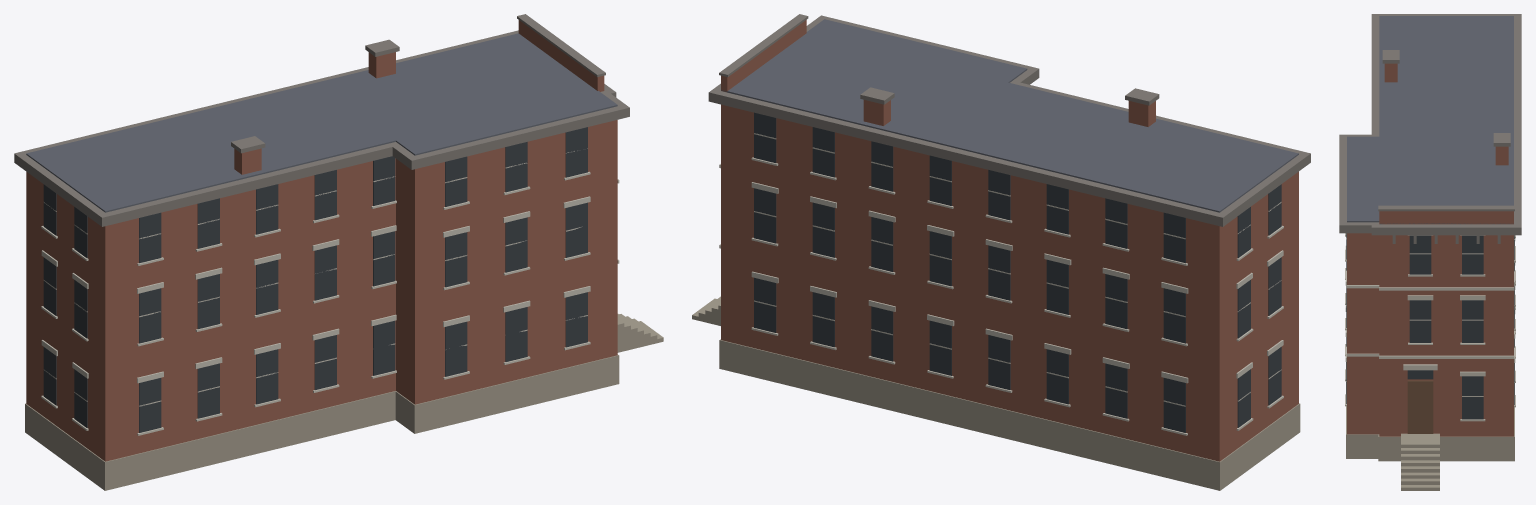
Rendered from house_1730_prairie__draft_1904.glb.
3 renders of one model, left to right at view 1: azimuth 30°, elevation 25°; view 2: azimuth 150°, elevation 25°; view 3: azimuth 270°, elevation 25°, orthographic. The views are drawn at different scales.
Parts seen in each view (by area): view 1: house_1730_prairie__draft_1904; view 2: house_1730_prairie__draft_1904; view 3: house_1730_prairie__draft_1904.
Part boxes in pixels (x1,y1,x2,y2): house_1730_prairie__draft_1904: (14, 14, 663, 490); house_1730_prairie__draft_1904: (692, 14, 1310, 490); house_1730_prairie__draft_1904: (1339, 14, 1521, 490).
Size of the model in its own units: 26.4 by 13.34 by 8.45.
